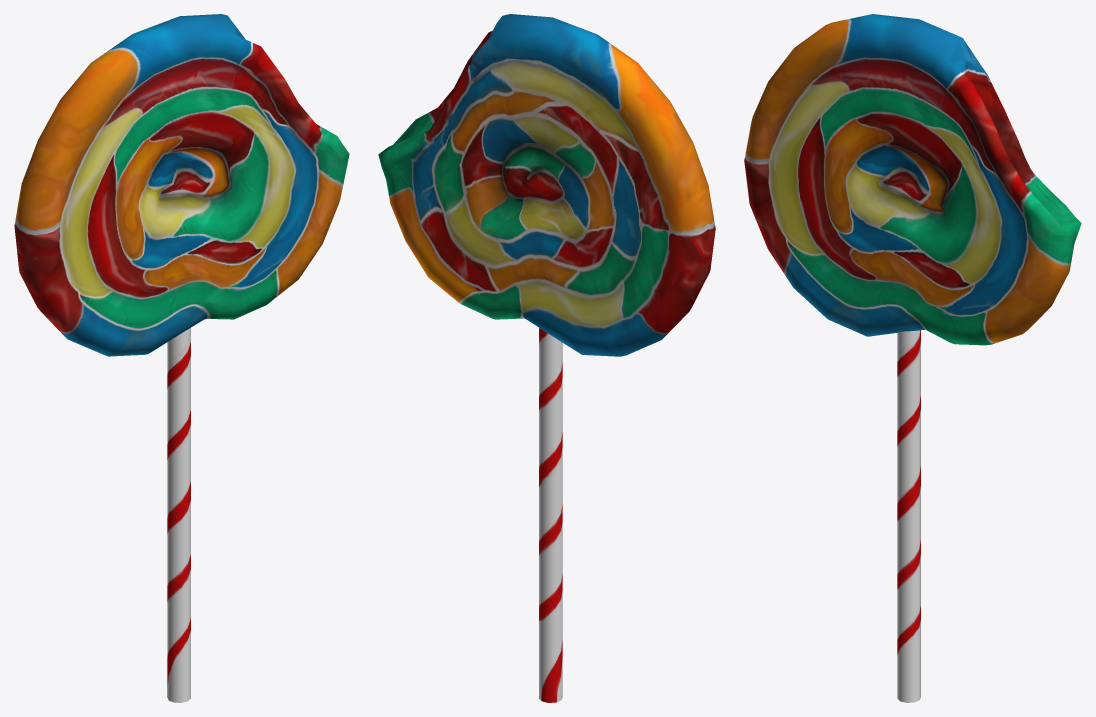
Rendered from Piruleta.FBX.
3 views of the same model, side by side, from view 1: azimuth 30°, elevation 25°; view 2: azimuth 150°, elevation 25°; view 3: azimuth 330°, elevation 25° (orthographic).
Parts seen in each view (by area): view 1: Piruleta; view 2: Piruleta; view 3: Piruleta.
Boxes of the visible parts, bbox=[...] form: Piruleta: bbox=[14, 14, 349, 702]; Piruleta: bbox=[378, 14, 715, 702]; Piruleta: bbox=[744, 14, 1081, 702].
Bounding box in the file's own units: 4541 × 9021 × 730.
Materials: 1 (1 with a texture image).
